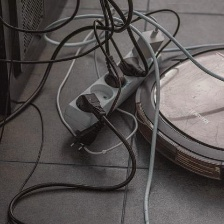three_eye_plug: (62, 43, 163, 136)
